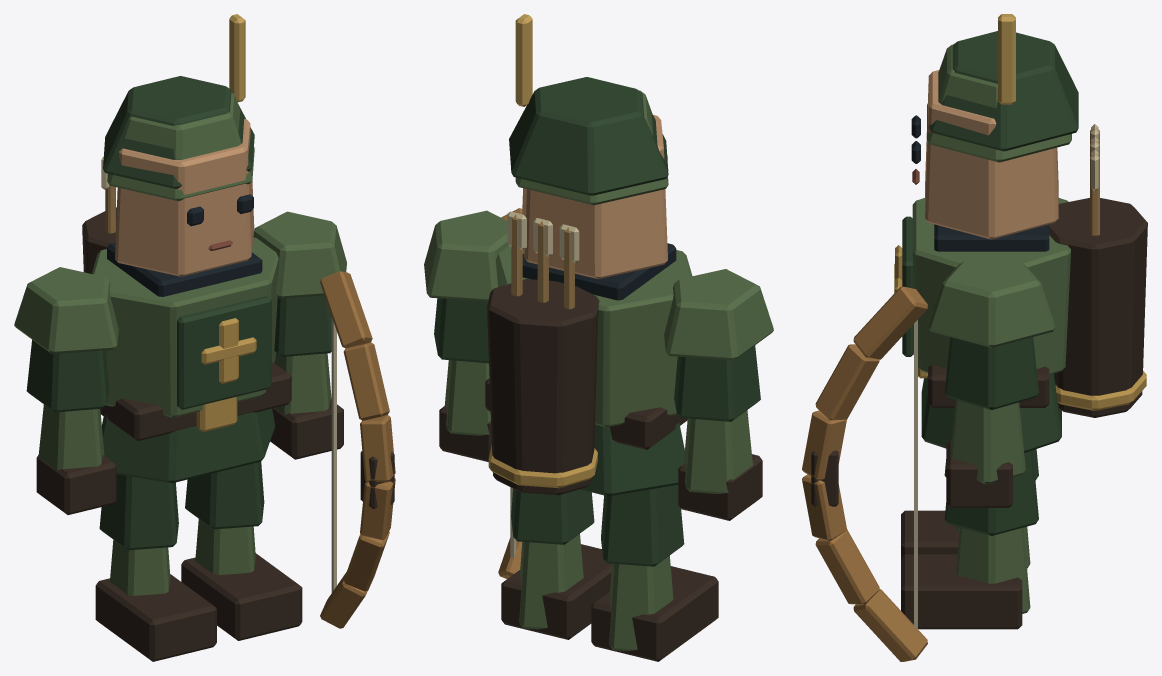
The model's file is archer.glb.
The picture shows the model from 3 angles, left to right: view 1: azimuth 30°, elevation 25°; view 2: azimuth 150°, elevation 25°; view 3: azimuth 270°, elevation 25°; orthographic projection. The views are drawn at different scales.
Parts seen in each view (by area): view 1: head.002, torso.002, weapon.002, pelvis.002, upper_arm_l.002, shin_l.002, shin_r.002, upper_arm_r.002, forearm_l.002, forearm_r.002, thigh_l.002, thigh_r.002 (+1 smaller); view 2: head.002, quiver, torso.002, upper_arm_l.002, shin_l.002, upper_arm_r.002, shin_r.002, forearm_l.002, pelvis.002, thigh_l.002, forearm_r.002, thigh_r.002 (+1 smaller); view 3: head.002, quiver, weapon.002, upper_arm_r.002, torso.002, shin_r.002, forearm_r.002, pelvis.002, thigh_r.002, shin_l.002.
Boxes of the visible parts, x1=… form: head.002: x1=103, y1=14, x2=254, y2=276; torso.002: x1=92, y1=237, x2=278, y2=417; weapon.002: x1=320, y1=271, x2=395, y2=628; pelvis.002: x1=100, y1=362, x2=291, y2=483; upper_arm_l.002: x1=14, y1=267, x2=118, y2=412; shin_l.002: x1=95, y1=540, x2=216, y2=661; shin_r.002: x1=181, y1=519, x2=302, y2=640; upper_arm_r.002: x1=253, y1=211, x2=346, y2=356; forearm_l.002: x1=36, y1=404, x2=116, y2=514; forearm_r.002: x1=270, y1=352, x2=343, y2=459; thigh_l.002: x1=99, y1=474, x2=178, y2=550; thigh_r.002: x1=185, y1=461, x2=264, y2=529; head.002: x1=509, y1=14, x2=668, y2=279; quiver: x1=487, y1=211, x2=599, y2=495; torso.002: x1=496, y1=243, x2=692, y2=427; upper_arm_l.002: x1=664, y1=269, x2=773, y2=421; shin_l.002: x1=591, y1=555, x2=718, y2=661; upper_arm_r.002: x1=424, y1=210, x2=508, y2=363; shin_r.002: x1=501, y1=534, x2=611, y2=639; forearm_l.002: x1=678, y1=410, x2=762, y2=520; pelvis.002: x1=485, y1=378, x2=687, y2=496; thigh_l.002: x1=601, y1=485, x2=684, y2=566; forearm_r.002: x1=439, y1=360, x2=491, y2=461; thigh_r.002: x1=511, y1=488, x2=594, y2=544; head.002: x1=911, y1=14, x2=1078, y2=239; quiver: x1=1049, y1=124, x2=1147, y2=417; weapon.002: x1=802, y1=286, x2=927, y2=661; upper_arm_r.002: x1=928, y1=261, x2=1055, y2=409; torso.002: x1=894, y1=198, x2=1070, y2=374; shin_r.002: x1=901, y1=527, x2=1030, y2=629; forearm_r.002: x1=946, y1=400, x2=1025, y2=507; pelvis.002: x1=918, y1=364, x2=1061, y2=452; thigh_r.002: x1=944, y1=450, x2=1038, y2=535; shin_l.002: x1=901, y1=510, x2=1030, y2=568.
Bounding box in the file's own units: 1.26 × 2.25 × 1.14.
